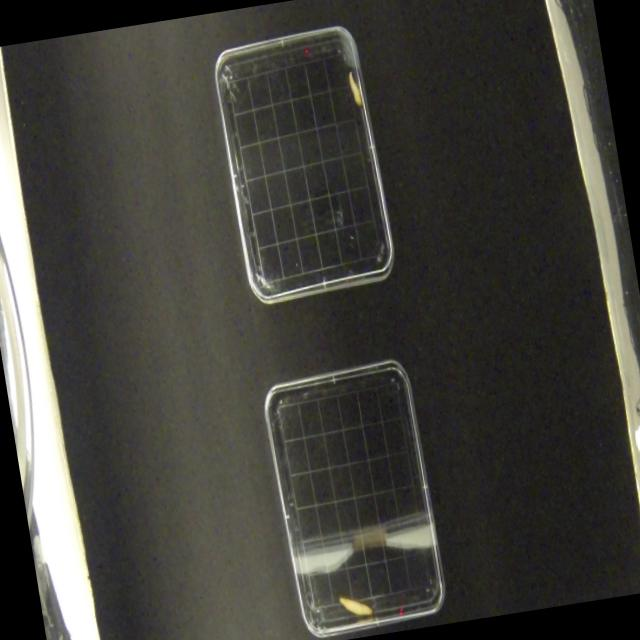larva: (338, 592, 374, 622), (344, 68, 366, 110)
